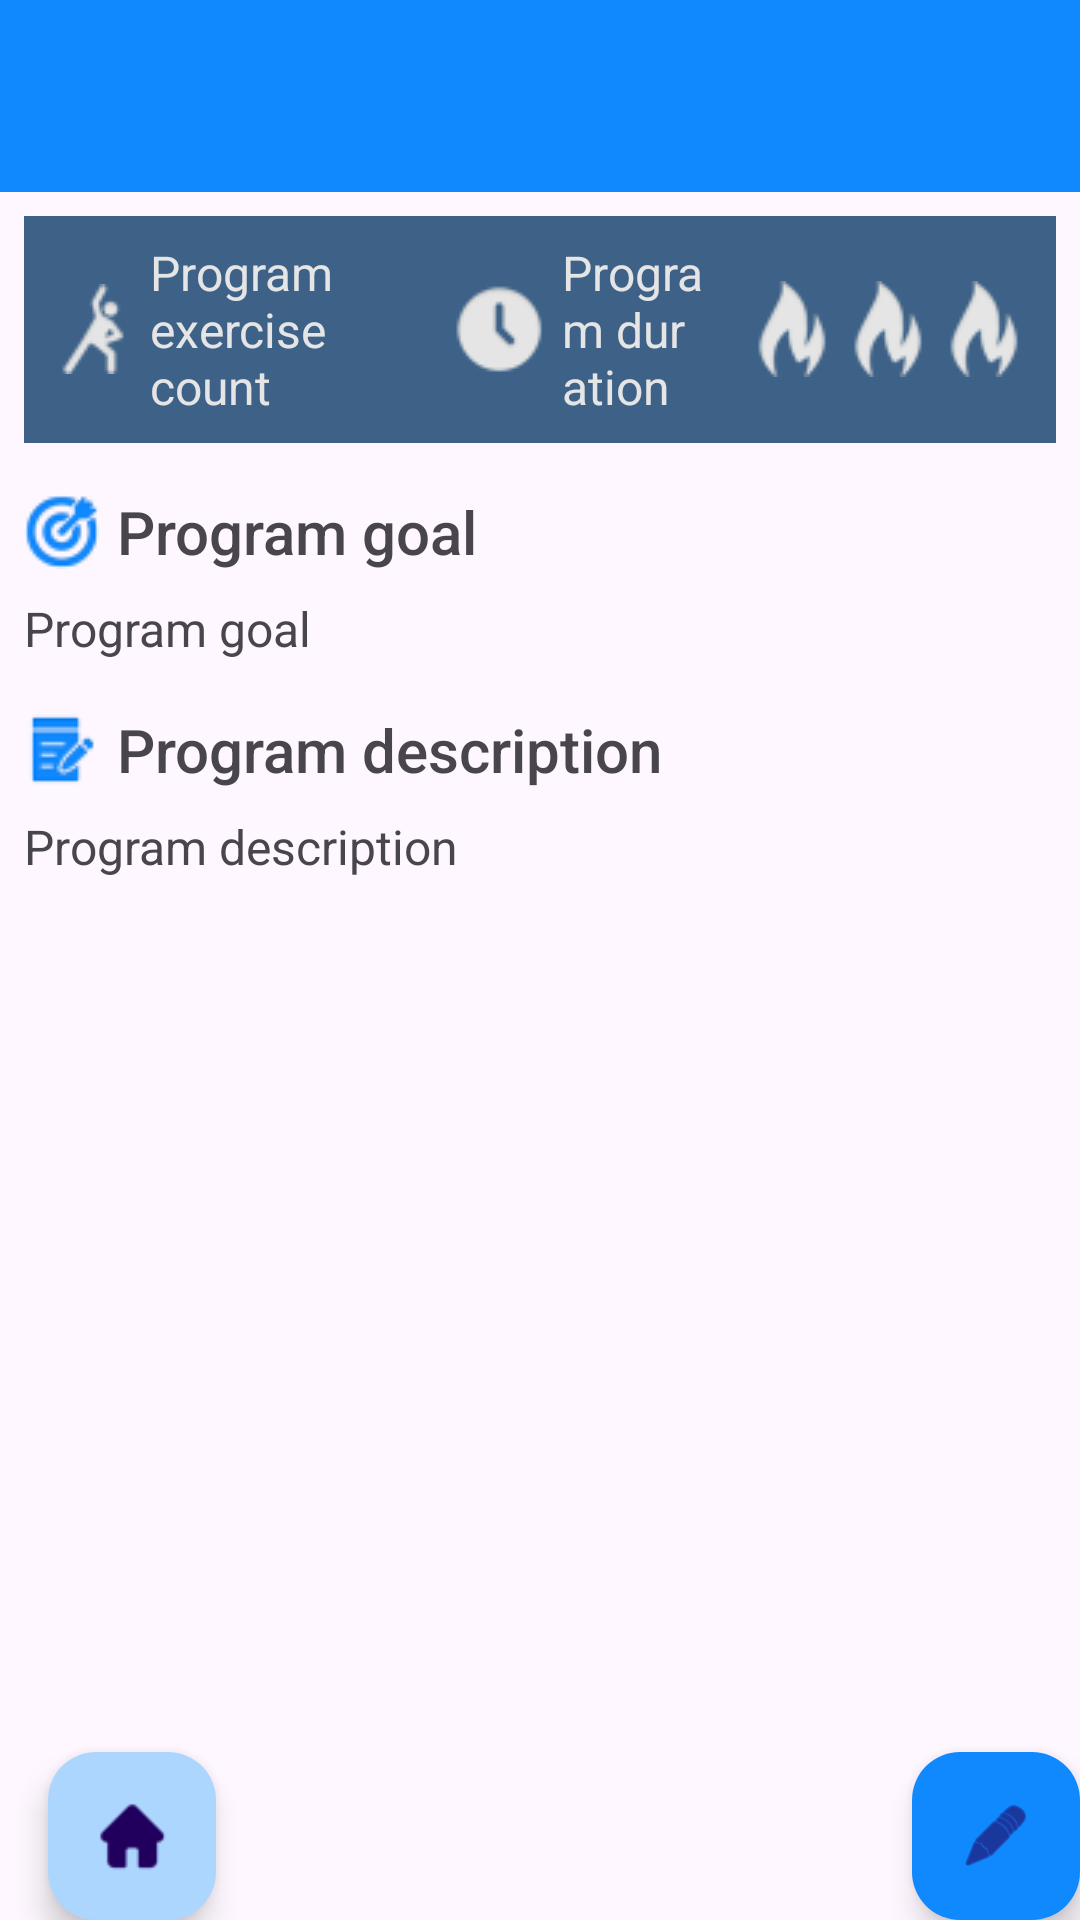

Named icons in this screenshot (1080x1920) and their bounding boxes, (x1, y1, x2, y2):
Edit Program info: (912, 1752, 1080, 1920)
Program difficulty: (758, 281, 826, 377), (854, 281, 922, 377), (950, 281, 1018, 377)
